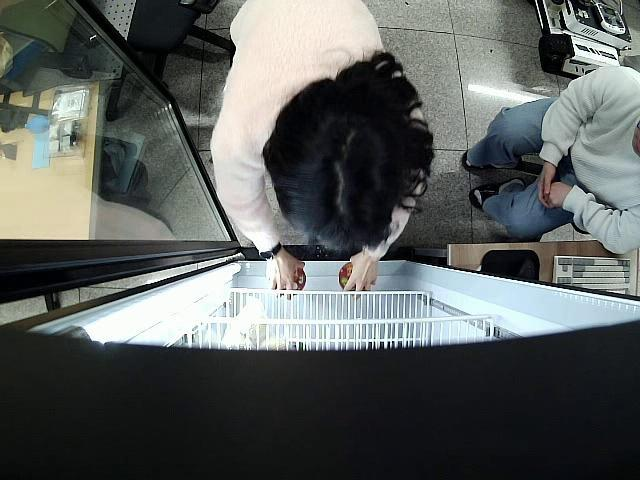06_nuguri_S: (274, 268, 307, 298), (339, 264, 368, 296)
